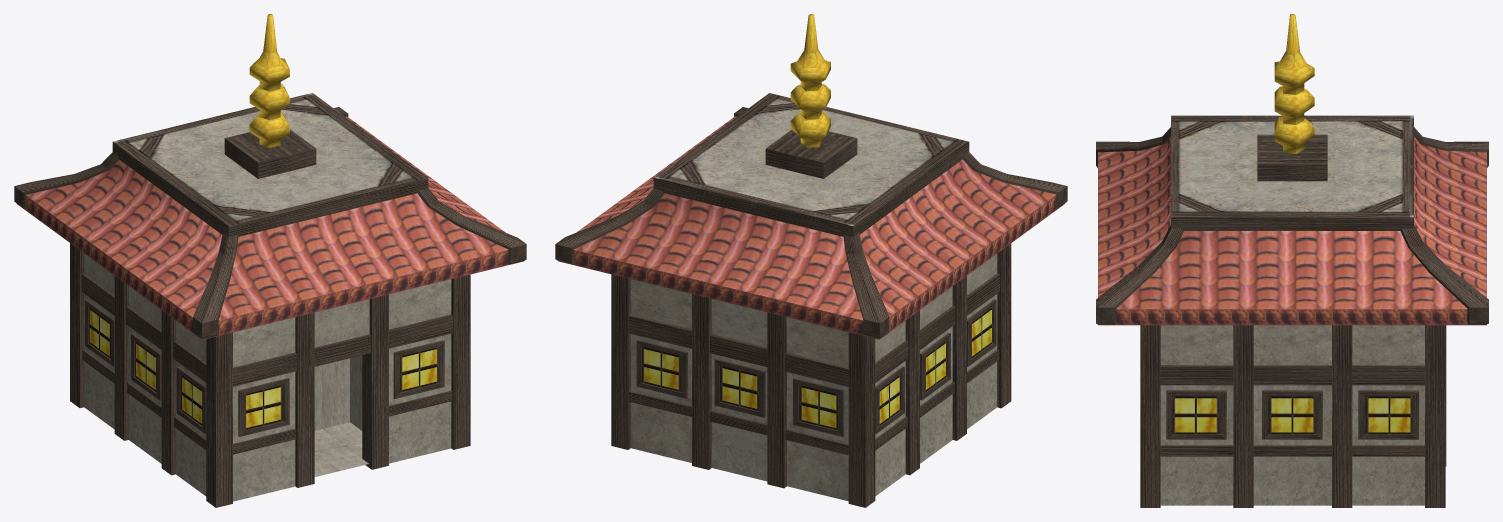
Rendered from casa-oriental-0.fbx.
3 renders of one model, left to right at view 1: azimuth 30°, elevation 25°; view 2: azimuth 150°, elevation 25°; view 3: azimuth 270°, elevation 25°, orthographic. The views are drawn at different scales.
Visible parts, largest first — view 1: Cube.000, Cube.002, Cube.001; view 2: Cube.000, Cube.002; view 3: Cube.000, Cube.002.
Boxes of the visible parts, x1,y1,x2,y2 form: Cube.000: (14,14,526,507); Cube.002: (88,307,439,430); Cube.001: (314,355,368,476); Cube.000: (555,14,1067,507); Cube.002: (642,307,993,430); Cube.000: (1096,14,1488,507); Cube.002: (1172,396,1412,434).
Size of the model in its own units: 5.37 by 6.46 by 5.37.
